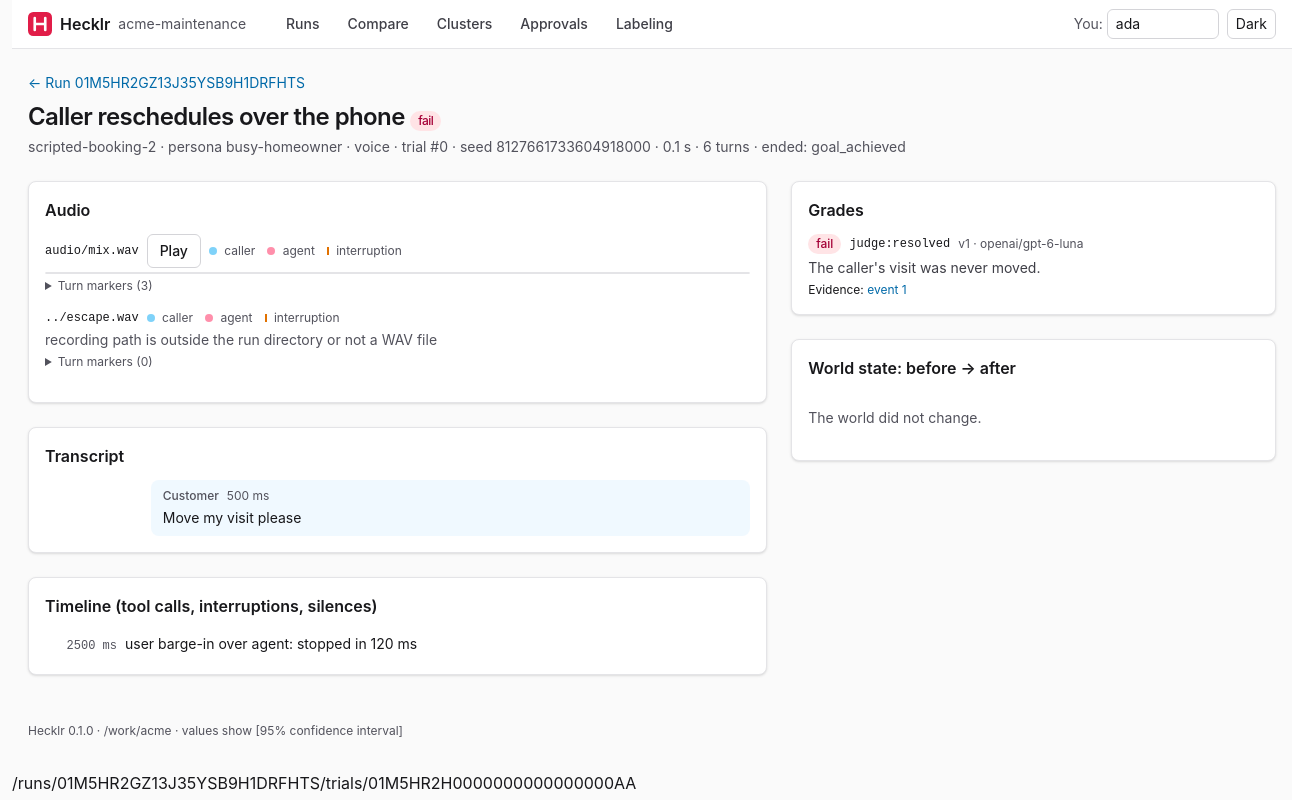
Test: TrialPage on a voice trial › us03: draws the waveform with caller, agent and barge-in markers
Check: the picture named "Waveform of audio/mix.wav with 3 turn markers" is shown, box [45,272,750,274]
Check: the text "recording path is outside the run directory or not a WAV file" is shown, box [45,331,437,348]
Click the button "Play": (174, 251) [147,234,201,268]
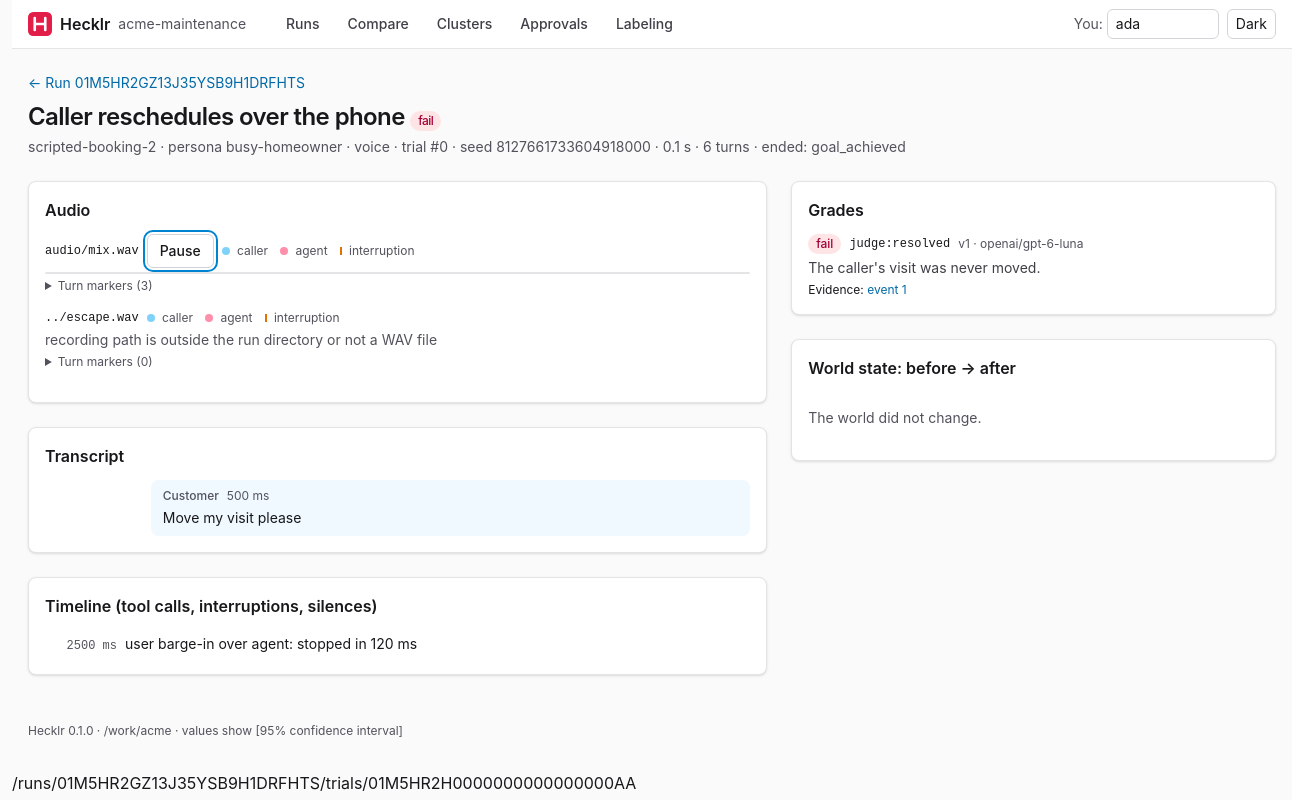
Check: the button "Pause" is shown, box [147,234,214,268]
